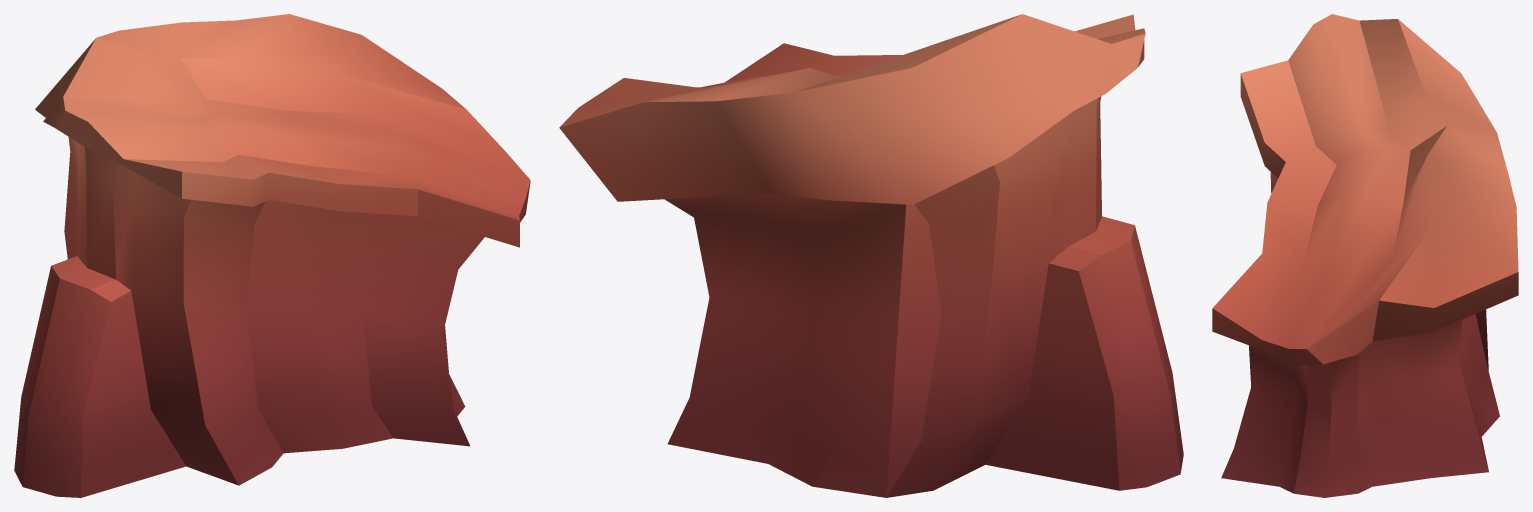
The model's file is SM_Cliffs_V03.fbx.
3 views of the same model, side by side, from view 1: azimuth 30°, elevation 25°; view 2: azimuth 150°, elevation 25°; view 3: azimuth 270°, elevation 25° (orthographic). The views are drawn at different scales.
Visible parts, largest first — view 1: SM_Cliff_V03_C01_01; view 2: SM_Cliff_V03_C01_01; view 3: SM_Cliff_V03_C01_01.
Part boxes in pixels (<box>): SM_Cliff_V03_C01_01: <box>14,14,530,497</box>; SM_Cliff_V03_C01_01: <box>559,14,1183,497</box>; SM_Cliff_V03_C01_01: <box>1212,14,1518,497</box>.
Size of the model in its own units: 763 by 599 by 481.
